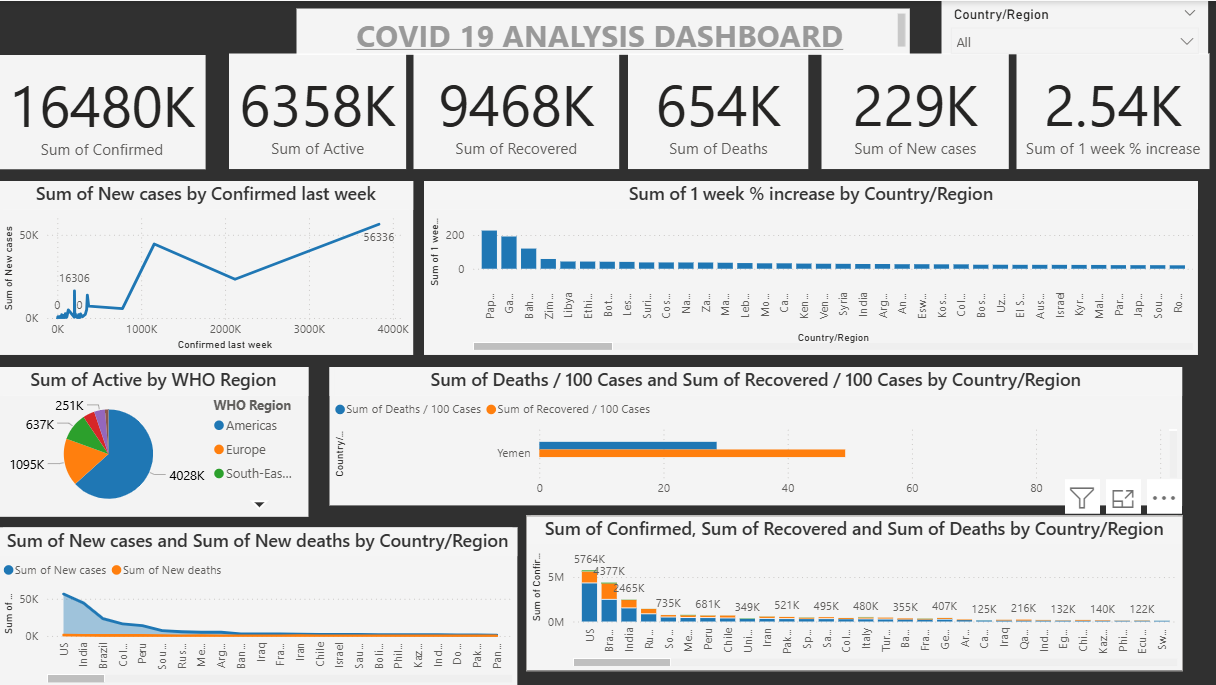

Layout of this report page (visuals, bound fields, positions):
{"tool":"powerbi","page":{"name":"Page 1","canvas":[1280,720],"ordinal":0},"visuals":[{"type":"lineChart","fields":{"Category":["country_wise_latest.Confirmed last week"],"Y":["Sum(country_wise_latest.New cases)"]},"box":[0,188.8,436.2,182.5],"z":0},{"type":"pieChart","fields":{"Y":["Sum(country_wise_latest.Active)"],"Category":["country_wise_latest.WHO Region"]},"box":[0,383.8,326.2,157.5],"z":1000},{"type":"areaChart","fields":{"Category":["country_wise_latest.Country/Region"],"Y":["Sum(country_wise_latest.New cases)","Sum(country_wise_latest.New deaths)"]},"box":[0,552.5,545,167.5],"z":2000},{"type":"card","fields":{"Values":["Sum(country_wise_latest.Confirmed)"]},"box":[0,56.3,218.1,119.9],"z":3000},{"type":"card","fields":{"Values":["Sum(country_wise_latest.Active)"]},"box":[243.3,55.1,185.8,121],"z":4000},{"type":"card","fields":{"Values":["Sum(country_wise_latest.Recovered)"]},"box":[436.3,55.1,215.7,121],"z":5000},{"type":"card","fields":{"Values":["Sum(country_wise_latest.Deaths)"]},"box":[661.6,55.1,189.4,121],"z":6000},{"type":"card","fields":{"Values":["Sum(country_wise_latest.New cases)"]},"box":[865.3,55.1,196.6,121],"z":7000},{"type":"card","fields":{"Values":["Sum(country_wise_latest.1 week % increase)"]},"box":[1069.1,55.1,202.5,121],"z":8000},{"type":"columnChart","fields":{"Category":["country_wise_latest.Country/Region"],"Y":["Sum(country_wise_latest.1 week % increase)"]},"box":[447.5,188.8,812.5,182.5],"z":9000},{"type":"clusteredBarChart","fields":{"Category":["country_wise_latest.Country/Region"],"Y":["Sum(country_wise_latest.Deaths / 100 Cases)","Sum(country_wise_latest.Recovered / 100 Cases)"]},"box":[348.8,383.8,895,145],"z":10000},{"type":"columnChart","fields":{"Category":["country_wise_latest.Country/Region"],"Y":["Sum(country_wise_latest.Confirmed)","Sum(country_wise_latest.Recovered)","Sum(country_wise_latest.Deaths)"]},"box":[554.9,540.5,689.1,163],"z":11000},{"type":"textbox","box":[312.9,7.1,644.3,48.6],"z":12000},{"type":"slicer","fields":{"Values":["country_wise_latest.Country/Region"]},"box":[991.2,0,280,56.2],"z":13000}]}

Visuals, with their boxes in screenshot pixels (x1, y1, x2, y2), scaled from the page's 1280x720 canvas onto the 1216x685 screenshot:
lineChart - country_wise_latest.Confirmed last week x Sum(country_wise_latest.New cases): <box>0,180,414,353</box>
pieChart - Sum(country_wise_latest.Active) x country_wise_latest.WHO Region: <box>0,365,310,515</box>
areaChart - country_wise_latest.Country/Region x Sum(country_wise_latest.New cases): <box>0,526,518,684</box>
card - Sum(country_wise_latest.Confirmed): <box>0,54,207,168</box>
card - Sum(country_wise_latest.Active): <box>231,52,408,168</box>
card - Sum(country_wise_latest.Recovered): <box>414,52,619,168</box>
card - Sum(country_wise_latest.Deaths): <box>629,52,808,168</box>
card - Sum(country_wise_latest.New cases): <box>822,52,1009,168</box>
card - Sum(country_wise_latest.1 week % increase): <box>1016,52,1208,168</box>
columnChart - country_wise_latest.Country/Region x Sum(country_wise_latest.1 week % increase): <box>425,180,1197,353</box>
clusteredBarChart - country_wise_latest.Country/Region x Sum(country_wise_latest.Deaths / 100 Cases): <box>331,365,1182,503</box>
columnChart - country_wise_latest.Country/Region x Sum(country_wise_latest.Confirmed): <box>527,514,1182,669</box>
textbox: <box>297,7,909,53</box>
slicer - country_wise_latest.Country/Region: <box>942,0,1208,53</box>
